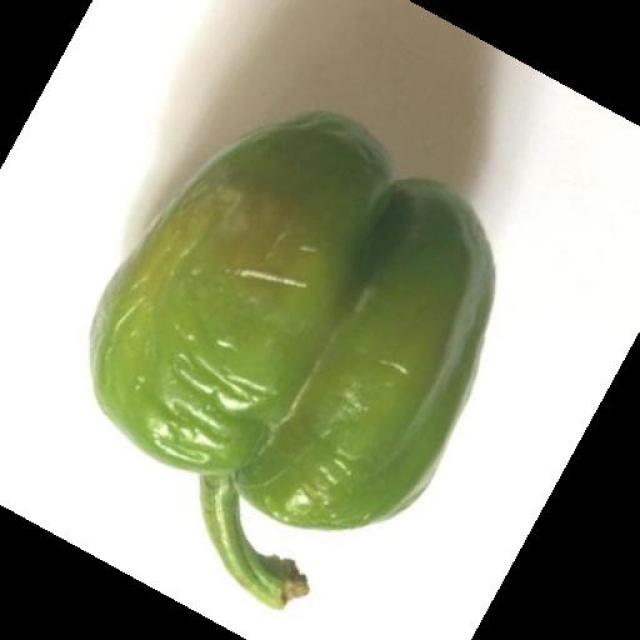Stale_Capsicum: (85, 95, 486, 524)
